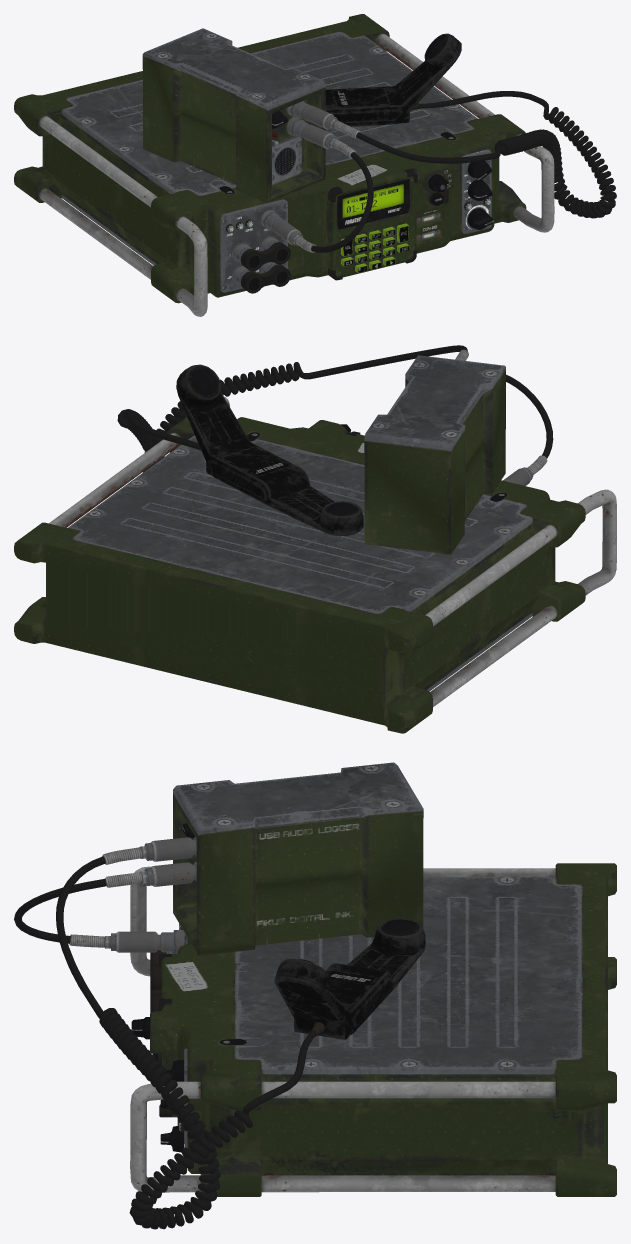
The model's file is radio.glb.
3 renders of one model, top to bottom at view 1: azimuth 30°, elevation 25°; view 2: azimuth 150°, elevation 25°; view 3: azimuth 270°, elevation 25°, orthographic. The views are drawn at different scales.
Parts seen in each view (by area): view 1: final_lambert1_0; view 2: final_lambert1_0; view 3: final_lambert1_0.
Part boxes in pixels (<box>): final_lambert1_0: <box>14,14,616,316</box>; final_lambert1_0: <box>14,345,616,733</box>; final_lambert1_0: <box>14,762,616,1229</box>.
Bounding box in the file's own units: 1.11 × 0.4708 × 1.06.
Materials: 1 (1 with a texture image).
